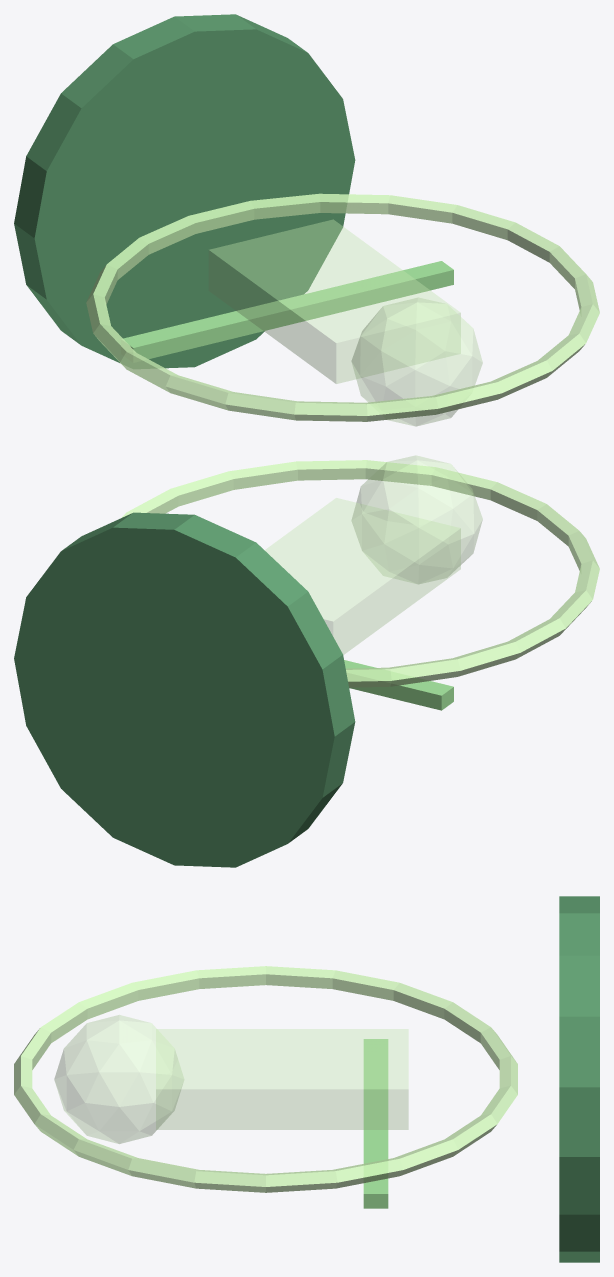
File: 07_support_npc_aura.glb
The picture shows the model from 3 angles, top to bottom: view 1: azimuth 30°, elevation 25°; view 2: azimuth 150°, elevation 25°; view 3: azimuth 270°, elevation 25°; orthographic projection.
Visible parts, largest first — view 1: npc_support_base, support_holo_body, ally_command_ring, support_holo_head, assist_beam_marker; view 2: npc_support_base, support_holo_body, ally_command_ring, support_holo_head, assist_beam_marker; view 3: support_holo_body, ally_command_ring, npc_support_base, support_holo_head, assist_beam_marker.
Part boxes in pixels (x1,y1,x2,y2): npc_support_base: (14,14,355,368); support_holo_body: (209,219,460,383); ally_command_ring: (86,193,599,421); support_holo_head: (351,297,482,426); assist_beam_marker: (121,261,453,362); npc_support_base: (14,512,355,867); support_holo_body: (265,498,460,654); ally_command_ring: (121,460,599,687); support_holo_head: (352,455,482,583); assist_beam_marker: (344,660,453,710); support_holo_body: (156,1029,408,1129); ally_command_ring: (14,966,517,1192); npc_support_base: (559,896,599,1262); support_holo_head: (54,1015,183,1143); assist_beam_marker: (363,1039,388,1208).
Bounding box in the file's own units: 1.25 × 0.9 × 1.44.
